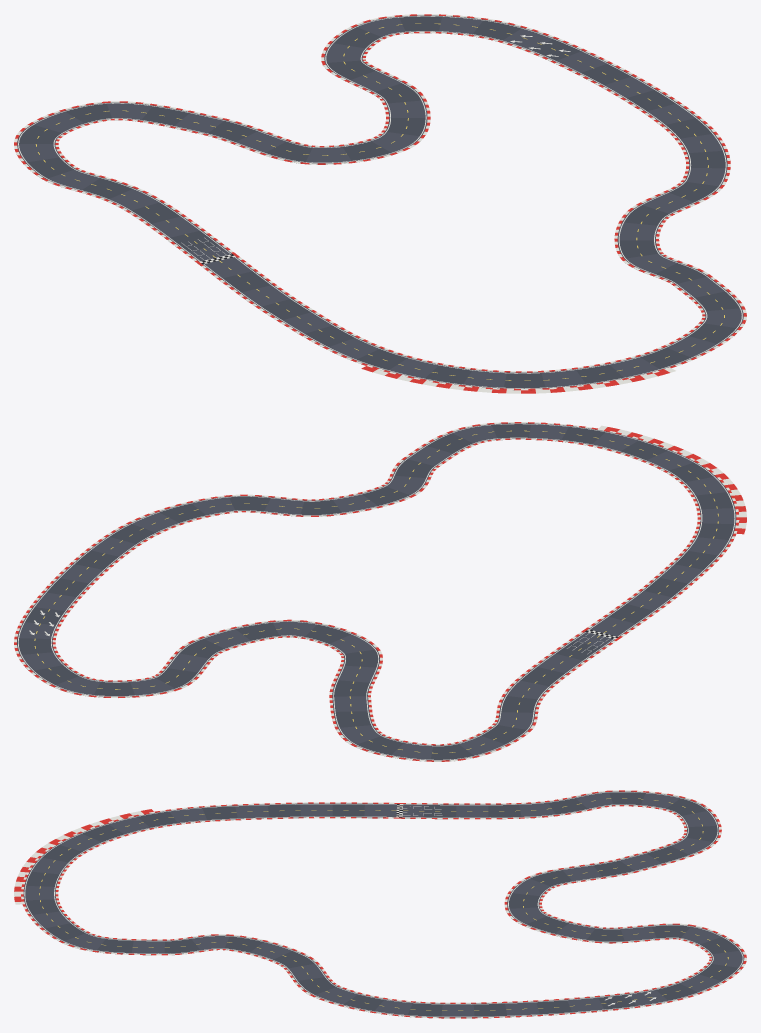
Rendered from course_road.glb.
3 views of the same model, one above another, from view 1: azimuth 30°, elevation 25°; view 2: azimuth 150°, elevation 25°; view 3: azimuth 270°, elevation 25° (orthographic). The views are drawn at different scales.
Visible parts, largest first — view 1: course_road; view 2: course_road; view 3: course_road.
Boxes of the visible parts, x1=… form: course_road: x1=14, y1=14, x2=746, y2=393; course_road: x1=14, y1=422, x2=746, y2=761; course_road: x1=14, y1=790, x2=746, y2=1018.
Bounding box in the file's own units: 202 × 0.045 × 274.
1 material, 1 textured.
